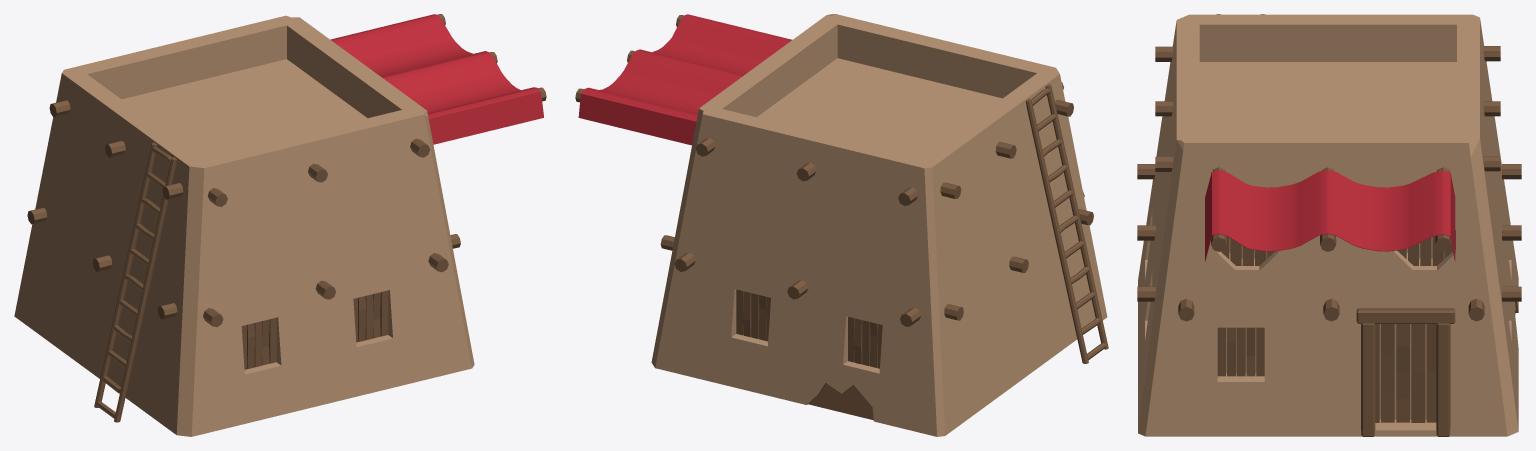
The model's file is building_short.glb.
The picture shows the model from 3 angles, left to right: view 1: azimuth 30°, elevation 25°; view 2: azimuth 150°, elevation 25°; view 3: azimuth 270°, elevation 25°; orthographic projection. The views are drawn at different scales.
Parts seen in each view (by area): view 1: House_2_Base, House_2_Towel_Big_Roof, House_2_Stairs_to_Roof, House_2_Beams_Area, House_2_Windows; view 2: House_2_Base, House_2_Towel_Big_Roof, House_2_Stairs_to_Roof, House_2_Beams_Area, House_2_Windows; view 3: House_2_Base, House_2_Towel_Big_Roof, House_2_Door, House_2_Door_Platband, House_2_Beams_Area, House_2_Windows, House_2_Windows_2, House_2_Beams_Towel.
Boxes of the visible parts, bbox=[...] form: House_2_Base: bbox=[14, 15, 474, 436]; House_2_Towel_Big_Roof: bbox=[330, 14, 543, 144]; House_2_Stairs_to_Roof: bbox=[94, 142, 177, 422]; House_2_Beams_Area: bbox=[27, 100, 460, 327]; House_2_Windows: bbox=[241, 290, 388, 369]; House_2_Base: bbox=[651, 14, 1107, 436]; House_2_Towel_Big_Roof: bbox=[578, 14, 792, 145]; House_2_Stairs_to_Roof: bbox=[1025, 84, 1108, 363]; House_2_Beams_Area: bbox=[660, 82, 1093, 326]; House_2_Windows: bbox=[736, 289, 882, 368]; House_2_Base: bbox=[1138, 14, 1518, 436]; House_2_Towel_Big_Roof: bbox=[1205, 170, 1455, 261]; House_2_Door: bbox=[1375, 324, 1436, 422]; House_2_Door_Platband: bbox=[1356, 308, 1455, 436]; House_2_Beams_Area: bbox=[1137, 46, 1521, 321]; House_2_Windows: bbox=[1217, 327, 1264, 376]; House_2_Windows_2: bbox=[1221, 230, 1455, 265]; House_2_Beams_Towel: bbox=[1211, 167, 1451, 251].
Size of the model in its own units: 9.1 by 5.07 by 6.34.
